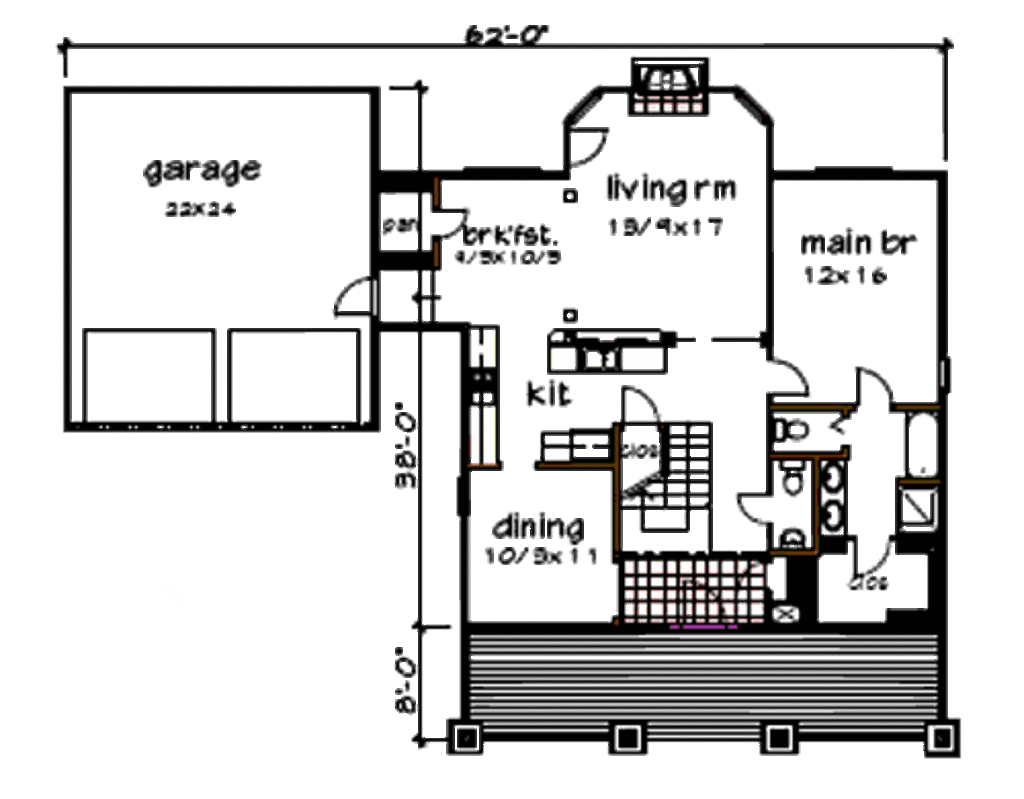door: (559, 123, 618, 175), (846, 359, 903, 407), (329, 277, 389, 320), (850, 534, 901, 583), (428, 204, 478, 243), (612, 386, 662, 420), (762, 354, 799, 396), (734, 486, 773, 523)
large_sink: (765, 408, 812, 445), (771, 451, 808, 495)
small_sink: (815, 456, 851, 535), (778, 522, 808, 548)
stairs: (623, 425, 715, 556)
twin_sink: (583, 323, 625, 376)
window: (813, 156, 897, 186), (465, 162, 548, 182)
